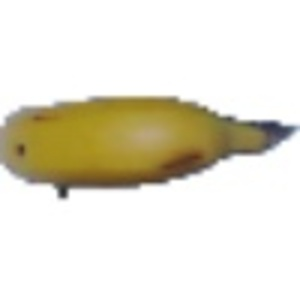banana: (1, 93, 297, 191)
